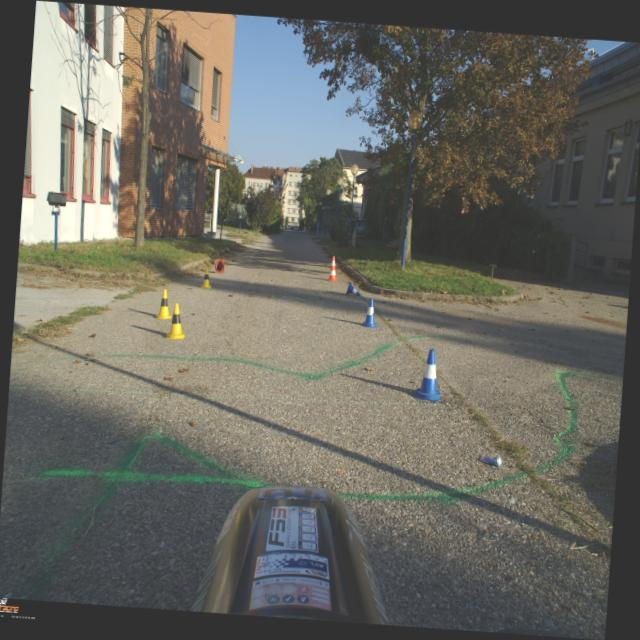blue_cone: (412, 347, 444, 402), (360, 297, 380, 328), (345, 280, 361, 296)
large_orange_cone: (326, 254, 339, 282), (213, 258, 224, 274)
yellow_cone: (164, 302, 187, 340), (154, 288, 174, 320), (199, 267, 212, 289)
